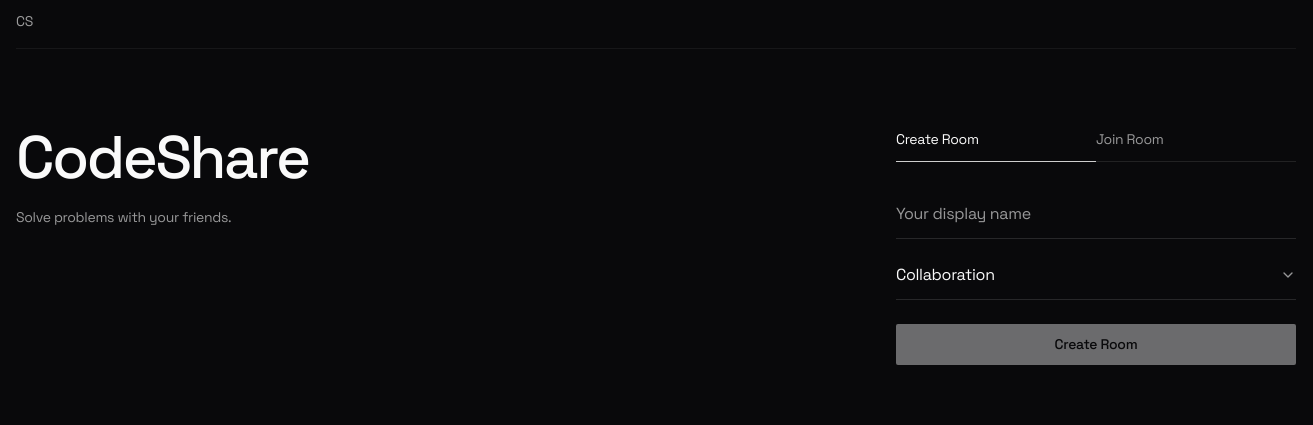
HomePage tabs › clears error when switching tabs
Type "Alice" into the field with placeholder "Your display name" at {"x": 1096, "y": 220}, box [896,202,1296,239]
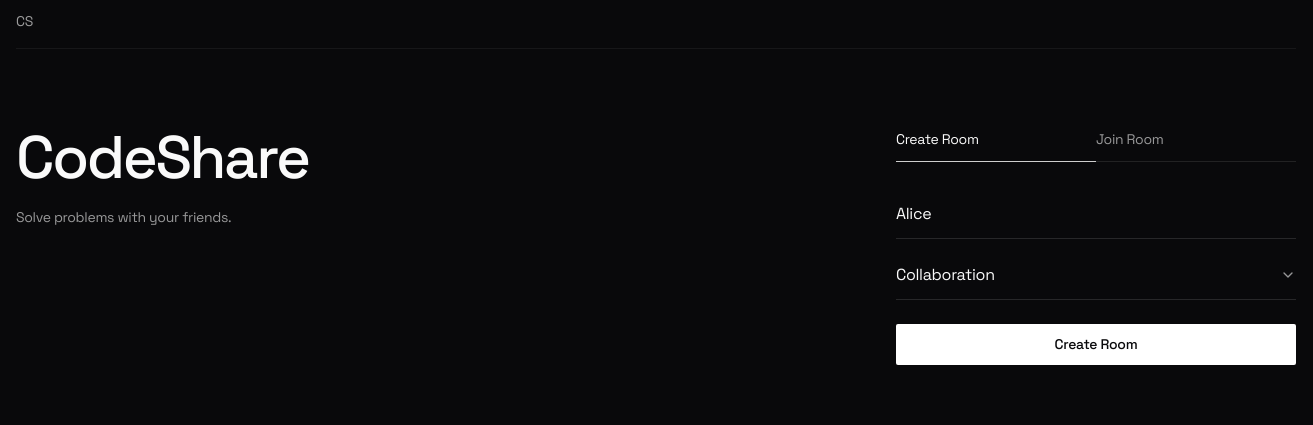
Click the button with test id "create-room-button" at {"x": 1096, "y": 344}, box [896,324,1296,365]
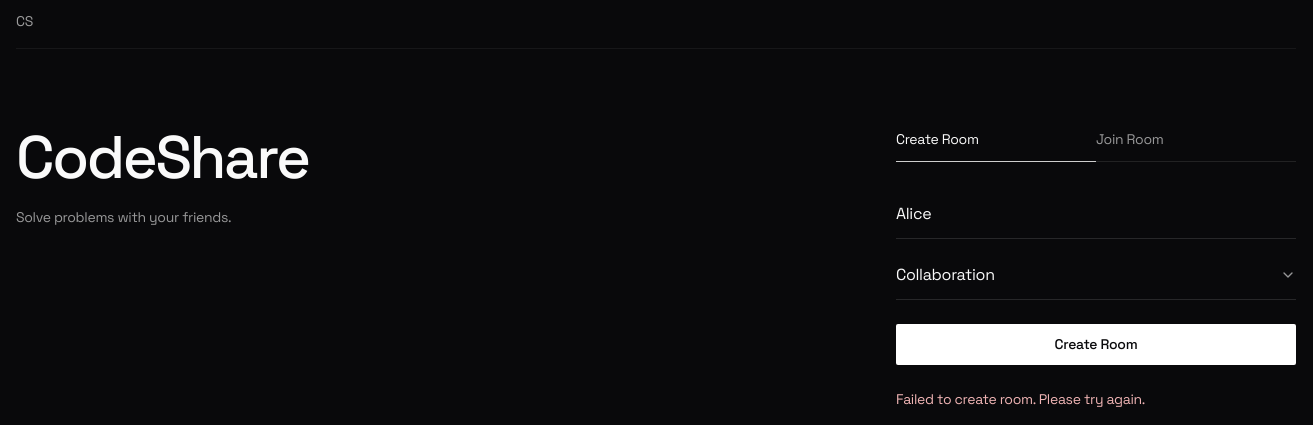
expect the text "Failed to create room. Please try again." is shown: met, box [896,390,1145,408]
Click the tab with test id "tab-join" at {"x": 1196, "y": 146}, box [1096,129,1296,162]
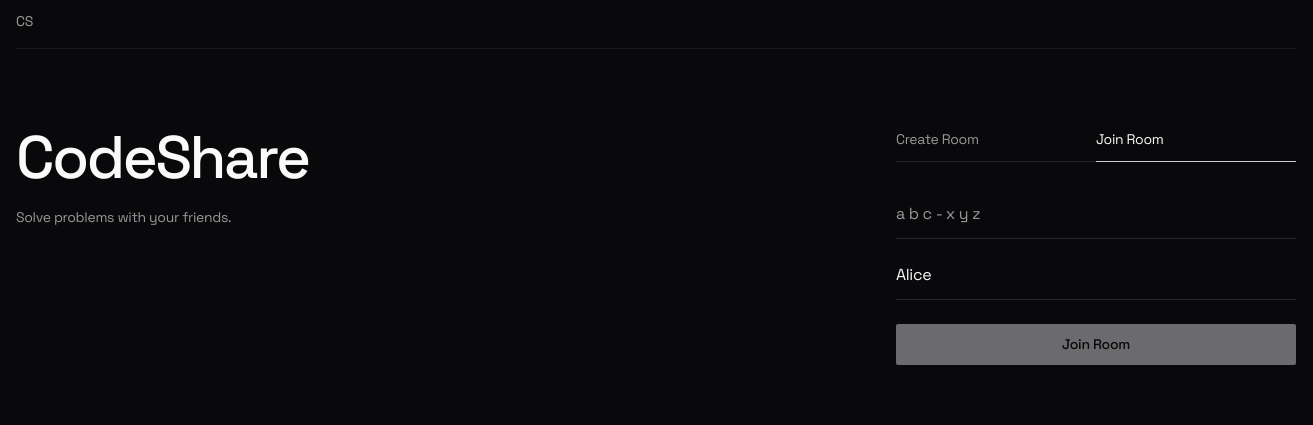
expect the text "Failed to create room. Please try again." is gone: met
